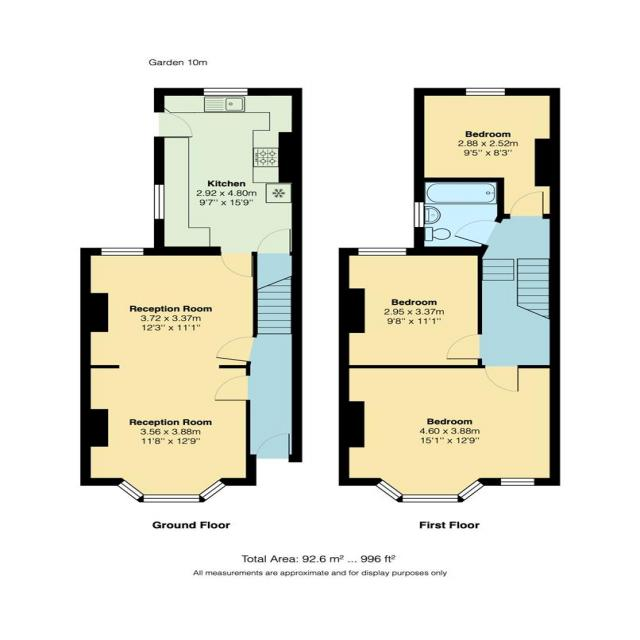DOOR: (453, 219, 502, 247), (214, 336, 257, 363), (255, 432, 291, 462), (154, 111, 194, 138), (483, 365, 520, 393), (509, 191, 545, 219), (214, 374, 250, 402), (256, 228, 292, 256), (445, 333, 482, 360), (220, 251, 253, 278)
ROOM: (79, 246, 258, 504), (338, 364, 561, 504), (154, 87, 303, 278), (414, 88, 561, 219), (338, 247, 484, 369)
WINDOW: (374, 478, 486, 503), (116, 479, 227, 503), (357, 247, 407, 256), (153, 184, 165, 220), (203, 87, 249, 96), (100, 247, 144, 256), (464, 87, 506, 96), (413, 201, 425, 228), (500, 478, 535, 486)
